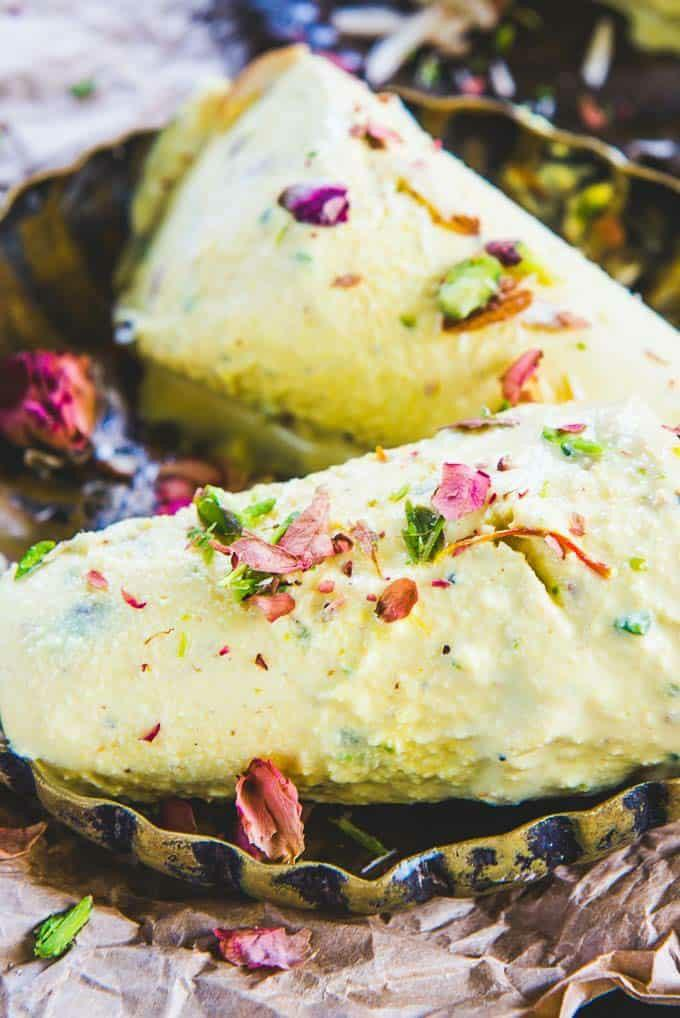Kulfi: (0, 396, 680, 806), (113, 42, 680, 464)
